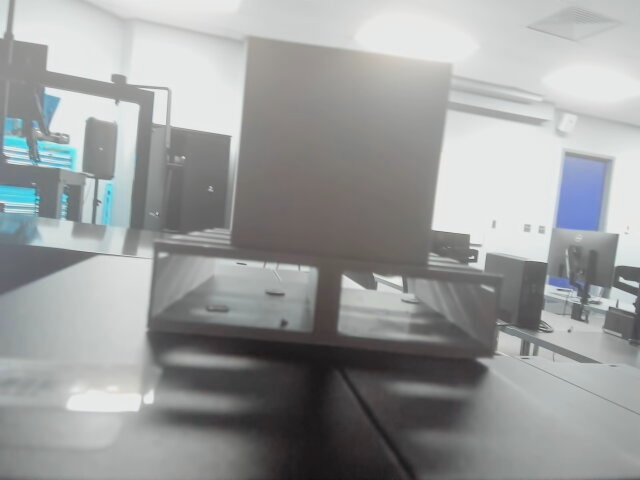grey pallet: (147, 33, 513, 372)
